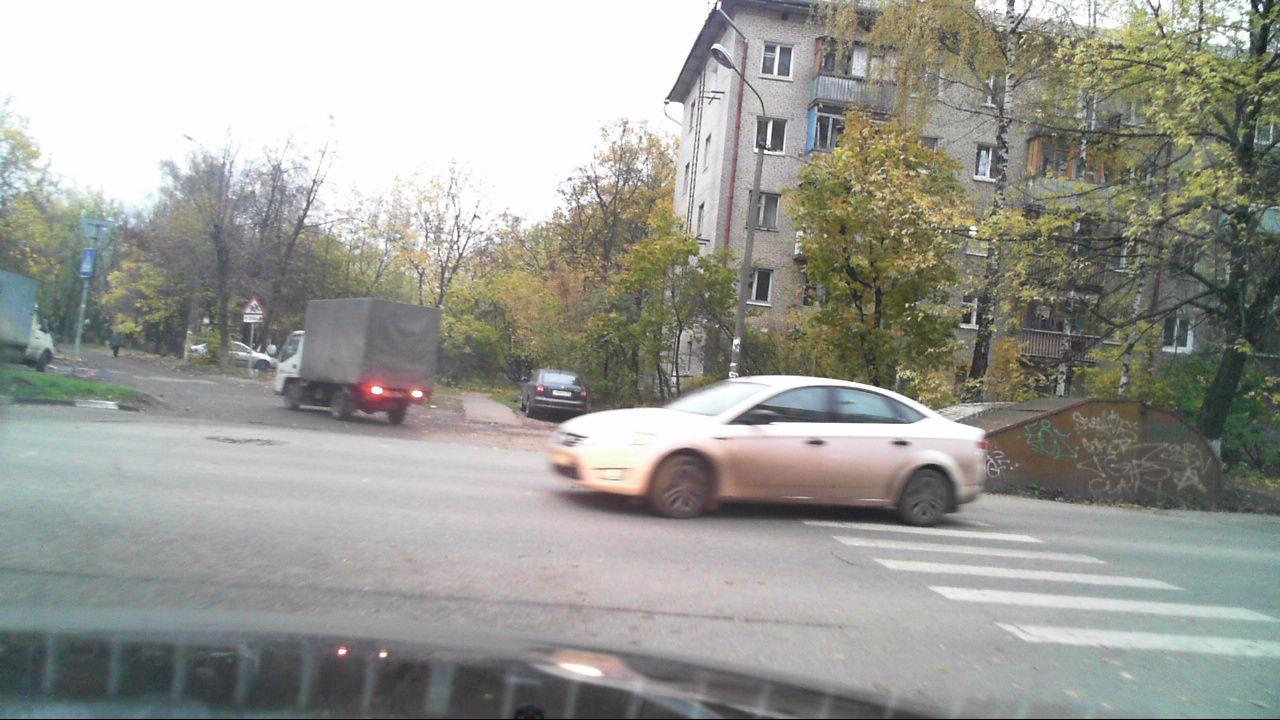road_sign: (80, 248, 96, 277), (242, 295, 265, 314), (243, 314, 264, 322)
